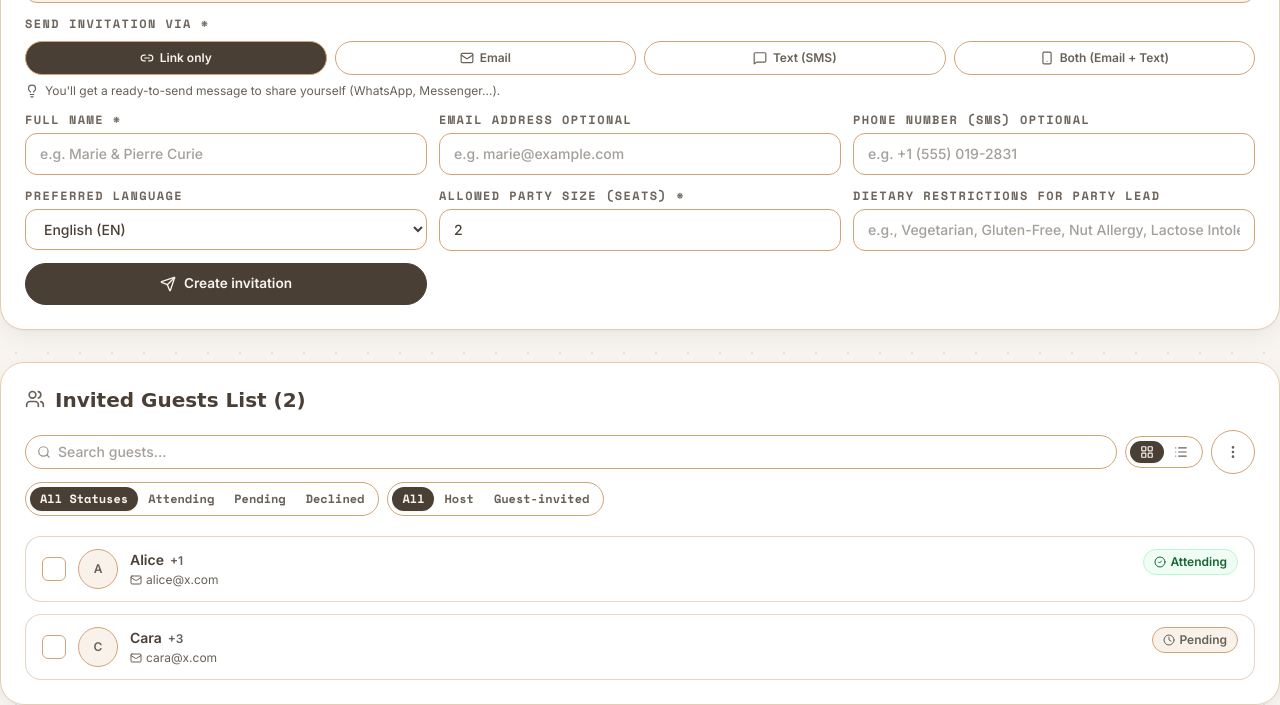
it: admin guest list: filtering › filters by source (guest-invited)
(page scrolled)
Expected: the field labelled "Search guests..." is shown, x1=25 y1=435 x2=1117 y2=469
Expected: the text "Alice" is shown, x1=130 y1=551 x2=164 y2=568
Click the button "Guest-invited" at (542, 499), box x1=484 y1=487 x2=599 y2=511
(page scrolled)
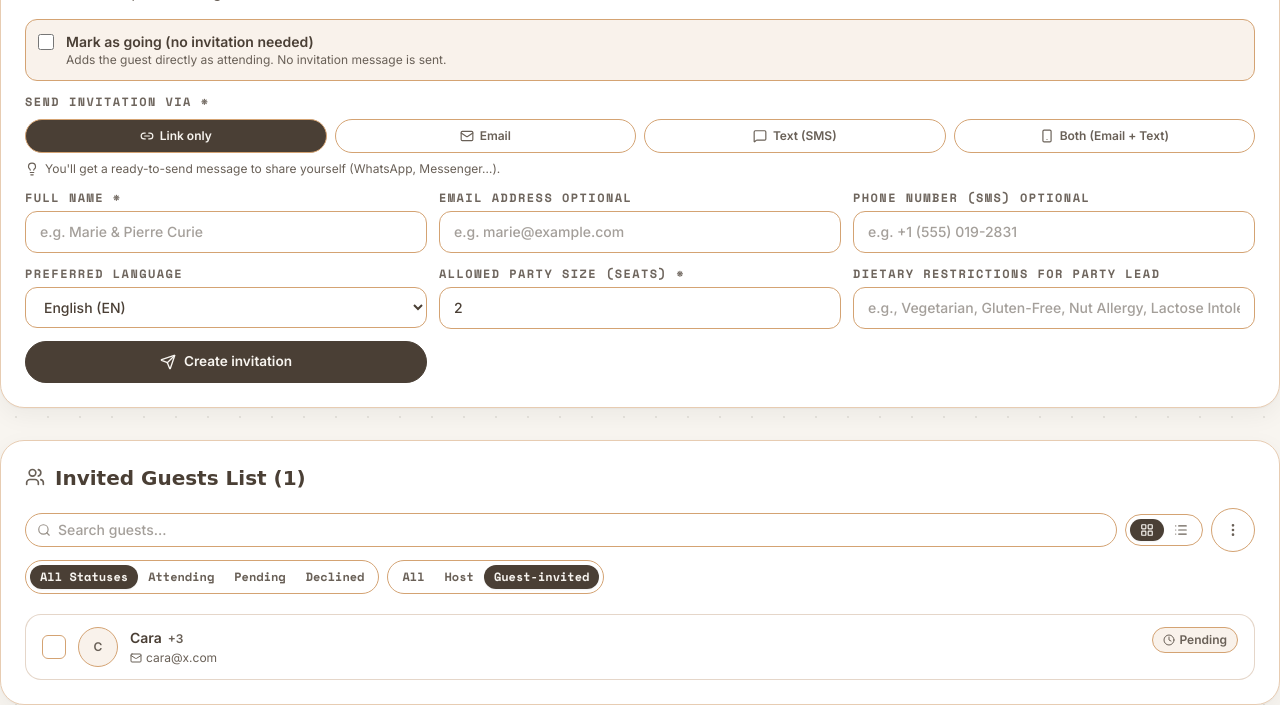
Expected: the text "Cara" is shown, x1=130 y1=629 x2=162 y2=646
Now the button "Alice" is gone
